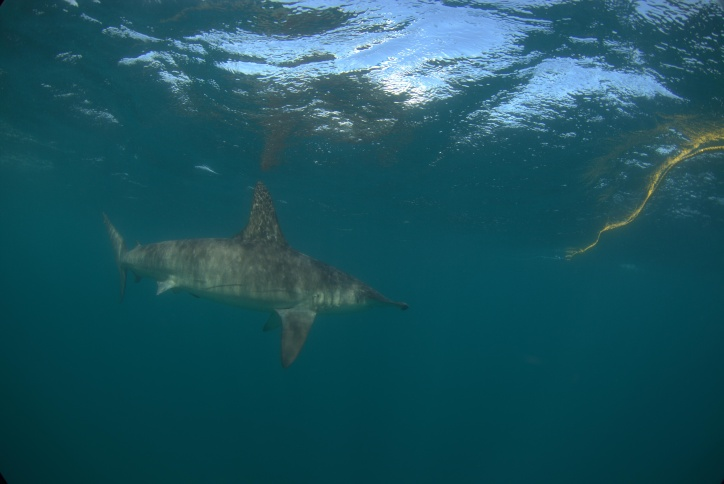Hammer: (59, 160, 458, 386)
